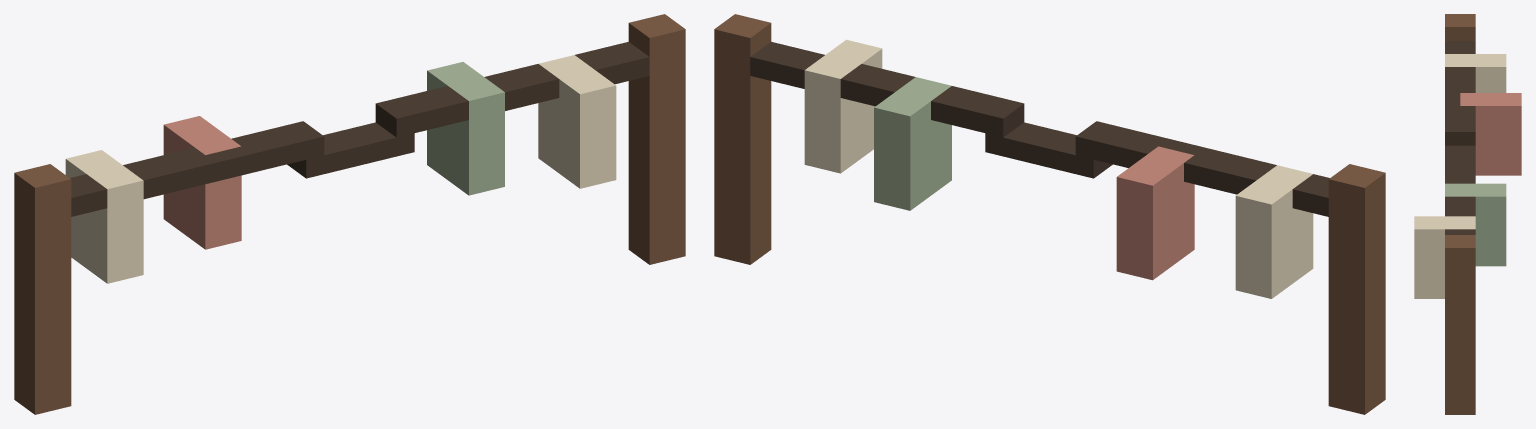
Rendered from hearthvale_clothesline.obj.
3 views of the same model, side by side, from view 1: azimuth 30°, elevation 25°; view 2: azimuth 150°, elevation 25°; view 3: azimuth 270°, elevation 25° (orthographic). The views are drawn at different scales.
Visible parts, largest first — view 1: palette_1, palette_2, palette_3, palette_5, palette_4; view 2: palette_1, palette_2, palette_3, palette_4, palette_5; view 3: palette_1, palette_2, palette_3, palette_4, palette_5.
Part boxes in pixels (bbox=[...]): palette_1: bbox=[14, 14, 685, 414]; palette_2: bbox=[70, 41, 649, 216]; palette_3: bbox=[65, 55, 616, 283]; palette_5: bbox=[427, 62, 504, 195]; palette_4: bbox=[163, 116, 241, 249]; palette_1: bbox=[714, 14, 1385, 414]; palette_2: bbox=[750, 41, 1329, 216]; palette_3: bbox=[804, 39, 1313, 298]; palette_4: bbox=[1116, 146, 1194, 280]; palette_5: bbox=[874, 77, 951, 210]; palette_1: bbox=[1445, 14, 1475, 414]; palette_2: bbox=[1445, 41, 1475, 234]; palette_3: bbox=[1414, 54, 1506, 298]; palette_4: bbox=[1460, 93, 1521, 175]; palette_5: bbox=[1445, 183, 1506, 266].
Bounding box in the file's own units: 2.25 × 0.75 × 0.4375.
